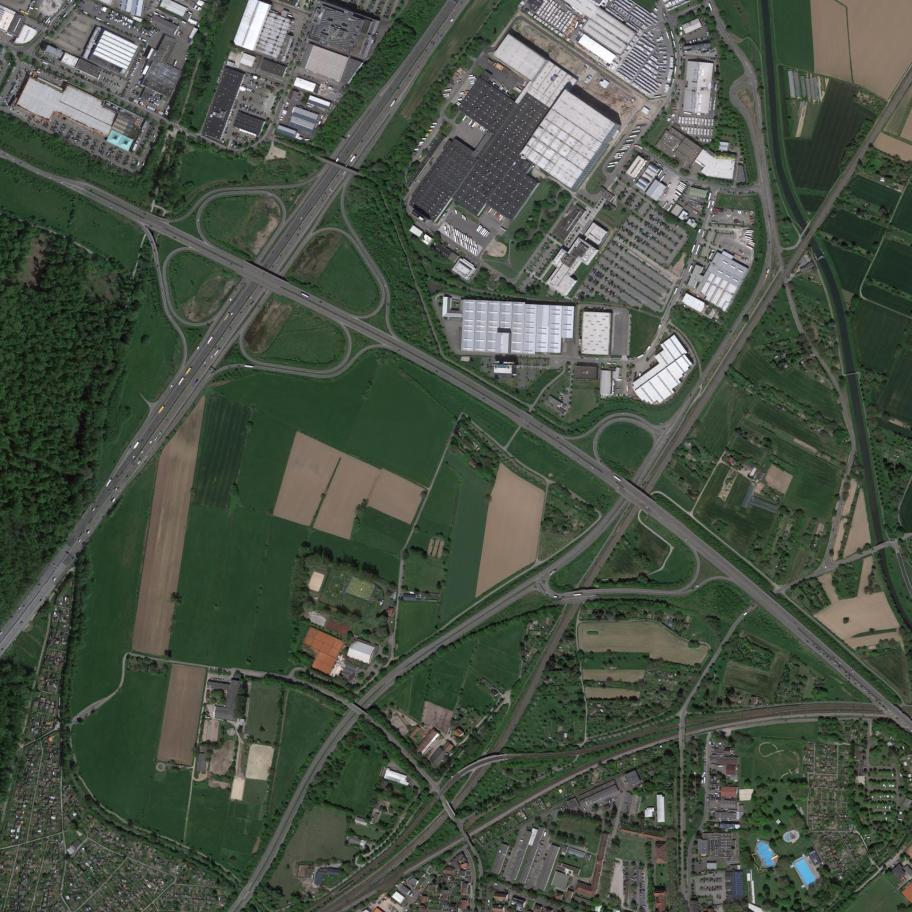large-vehicle: (708, 3, 713, 12)
